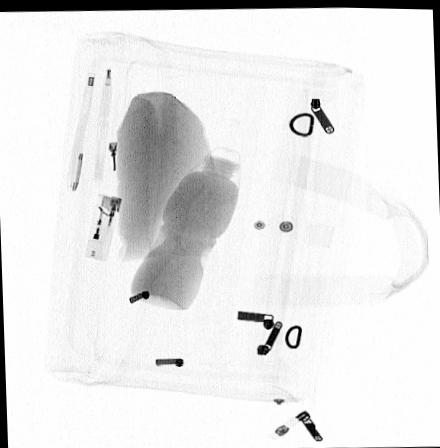Lighter: (84, 193, 121, 261)
